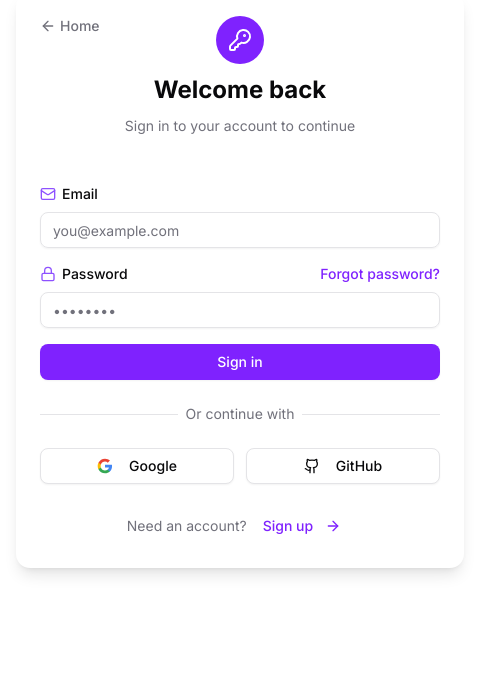
Test case: SignInForm › displays error message for invalid credentials
This screenshot has width=481, height=674.
In the field labelled "Email": (240, 230) [40, 212, 440, 248], type "test@example.com"
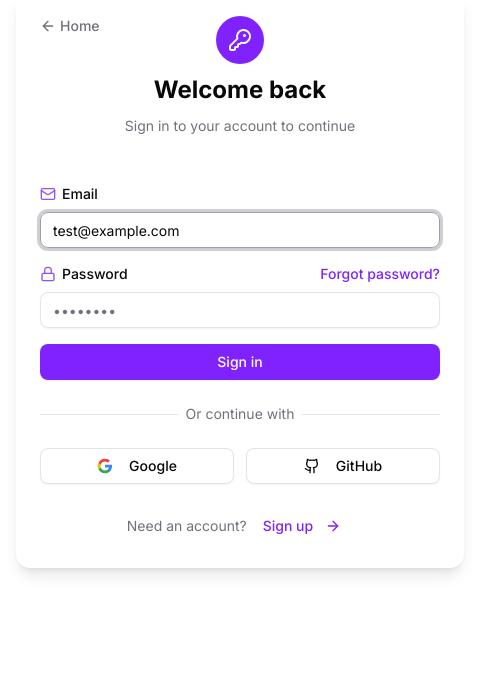
In the password field labelled "Password": (240, 310) [40, 292, 440, 328], type "WrongPassword123!"
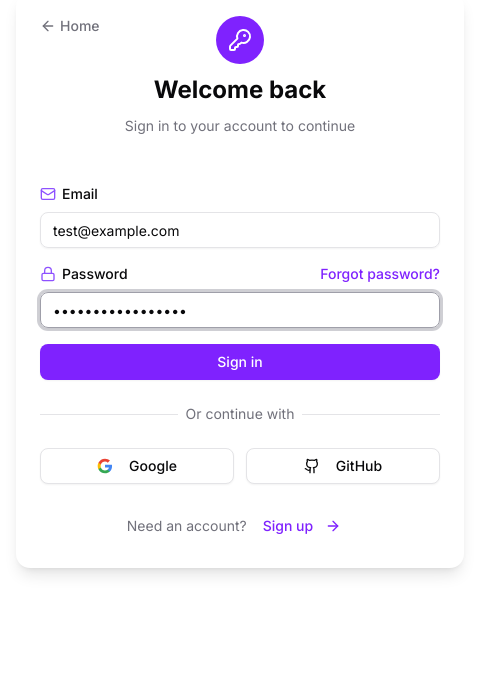
Click the button "Sign in": (240, 362) [40, 344, 440, 380]
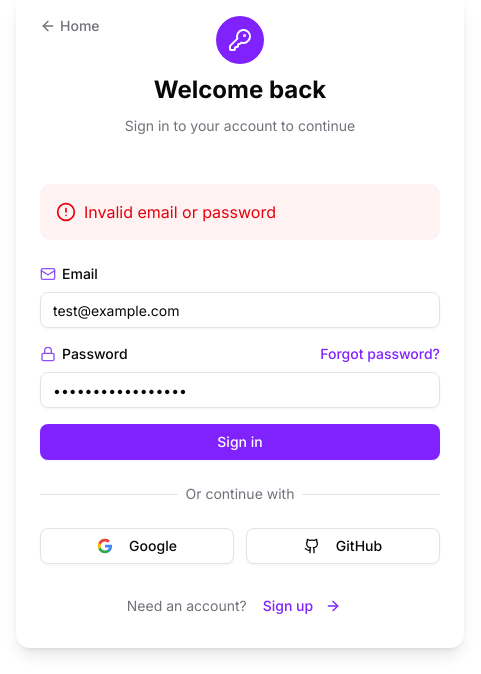
Now the text "Invalid email or password" is shown, box [84, 200, 276, 224]
